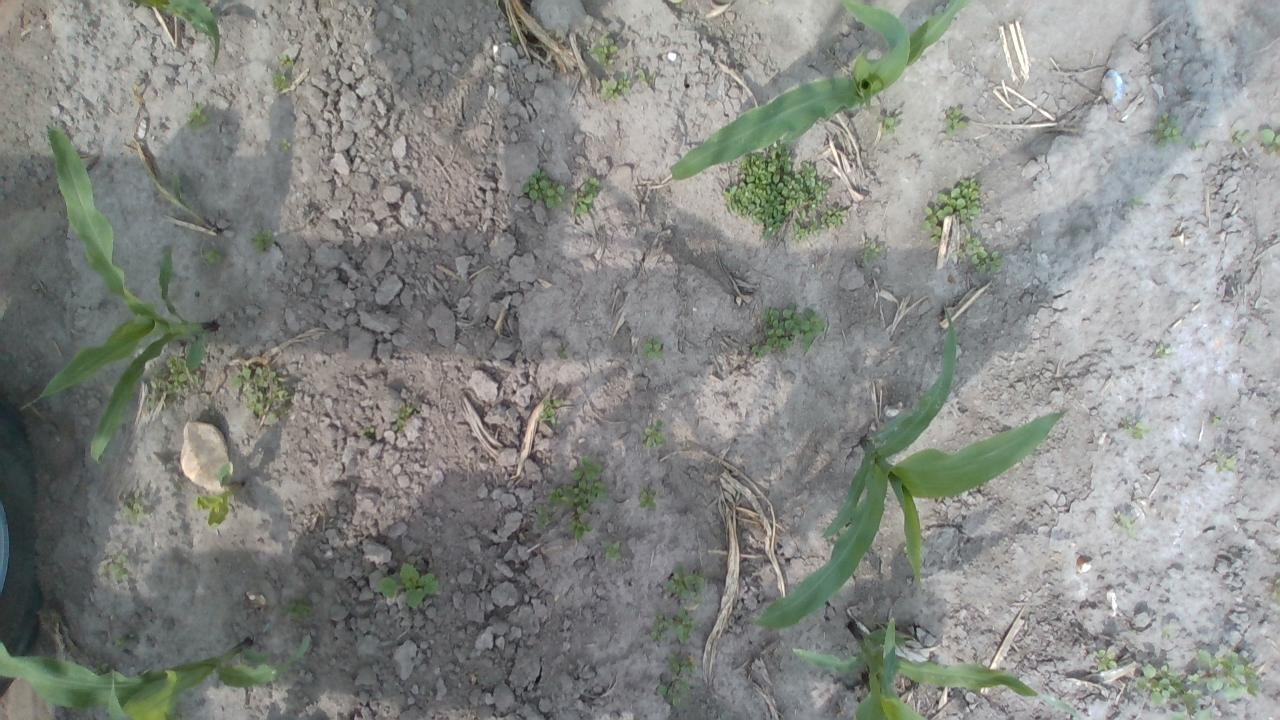Maize: (739, 306, 1070, 635), (18, 124, 222, 464), (667, 0, 970, 184), (787, 620, 1095, 720), (0, 633, 315, 720), (124, 0, 225, 67)
Weeds: (722, 142, 848, 244), (1135, 663, 1216, 720), (751, 303, 827, 357), (923, 176, 983, 243), (1192, 649, 1264, 701), (230, 367, 292, 425), (196, 462, 244, 530), (377, 562, 440, 610), (146, 355, 204, 400), (950, 236, 1002, 274), (650, 606, 701, 644), (571, 456, 610, 505), (520, 168, 566, 209), (666, 564, 708, 606), (570, 176, 601, 216), (1151, 112, 1185, 146), (658, 674, 691, 708), (859, 233, 886, 268), (1119, 416, 1154, 441), (121, 488, 151, 517), (598, 75, 630, 102), (664, 654, 700, 677), (590, 36, 618, 64), (389, 406, 415, 434), (643, 419, 667, 449), (944, 107, 969, 135), (1115, 512, 1138, 540), (539, 397, 561, 426), (284, 601, 312, 622), (1259, 128, 1280, 156), (253, 229, 278, 252), (186, 104, 208, 130), (1092, 650, 1118, 671), (1214, 451, 1237, 474), (548, 484, 573, 505), (634, 68, 656, 91), (571, 520, 593, 542), (108, 554, 128, 578), (600, 540, 622, 561), (639, 490, 660, 511), (643, 340, 665, 360), (876, 114, 898, 134), (536, 504, 550, 530), (172, 181, 186, 205), (271, 72, 287, 92), (1154, 342, 1173, 358), (1270, 578, 1280, 608), (1234, 131, 1252, 146), (358, 426, 377, 439), (116, 638, 132, 652), (204, 251, 222, 263), (1130, 195, 1144, 208), (1209, 416, 1223, 428), (556, 346, 568, 360), (279, 56, 295, 66), (1191, 140, 1202, 151), (282, 140, 292, 152)
